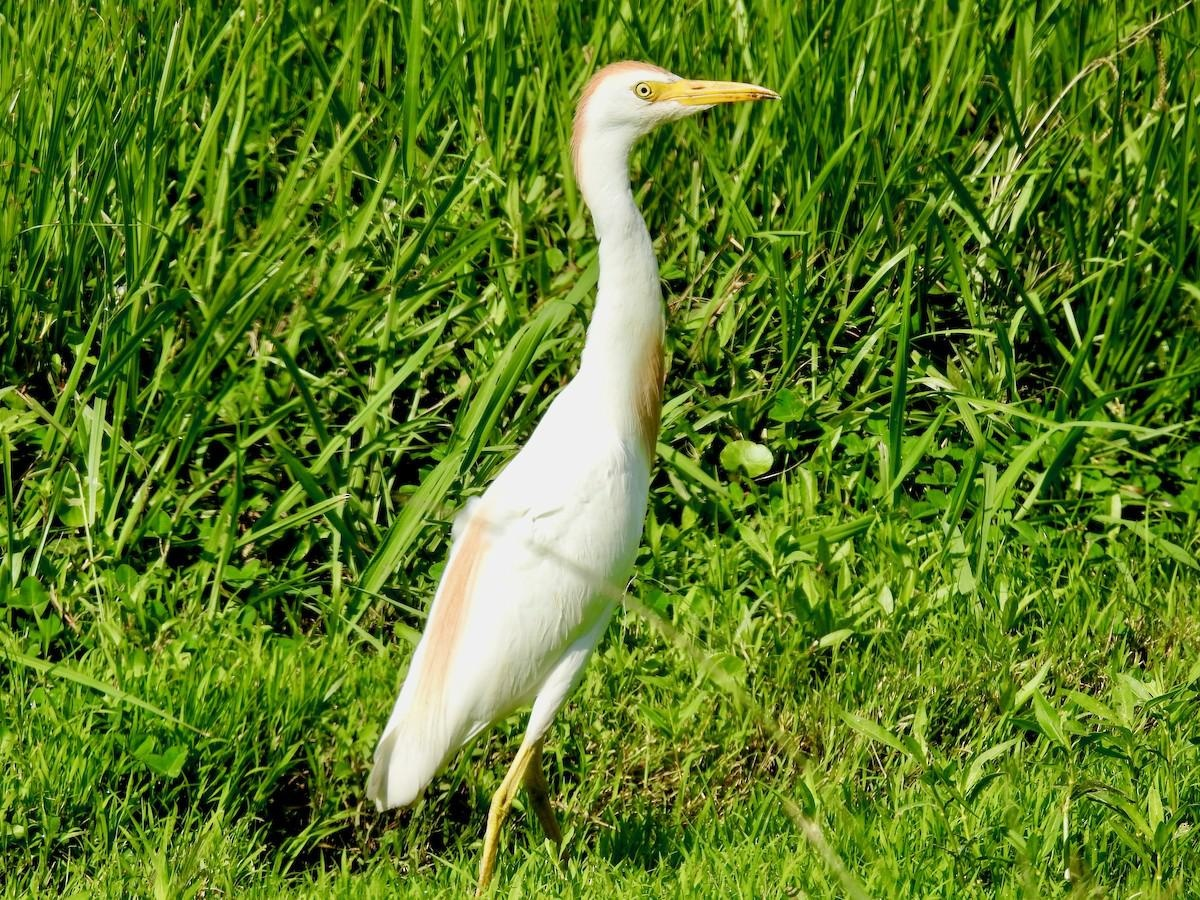egret: (329, 38, 781, 842)
